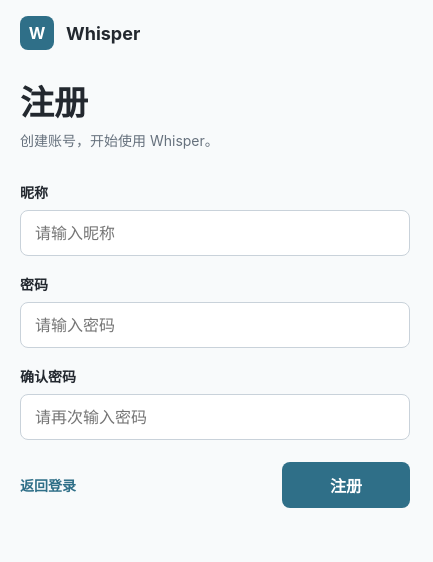
Test: RegisterPanel › blocks submission when passwords do not match
The width and height of the screenshot is (433, 562).
Step 1. Type "alice" into the field labelled "昵称" → (215, 233), box 20,210 -> 410,256
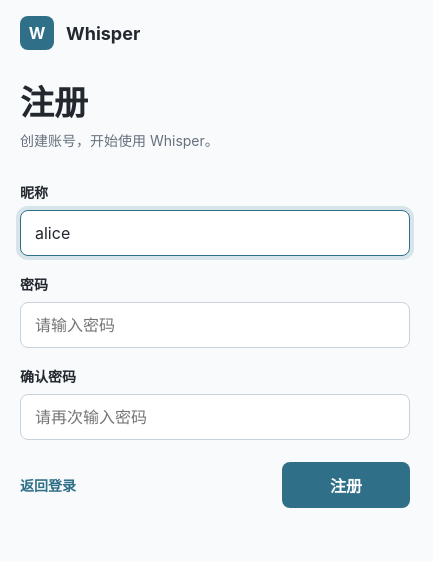
Step 2. Type "secret" into the password field labelled "密码" → (215, 325), box 20,302 -> 410,348
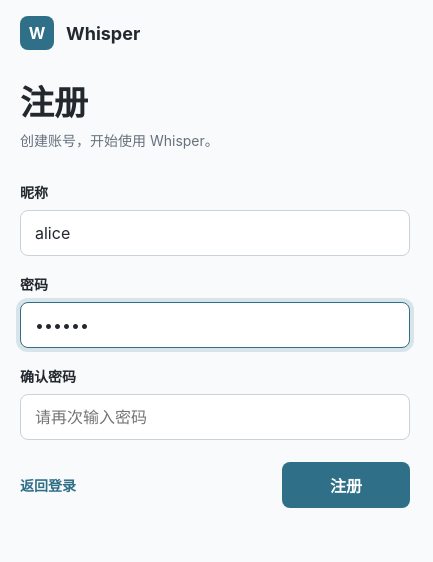
Step 3. Type "different" into the password field labelled "确认密码" → (215, 417), box 20,394 -> 410,440
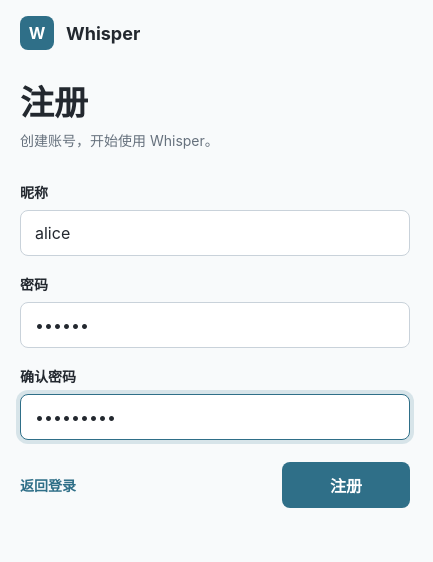
Step 4. Click the button "注册" → (346, 485), box 282,462 -> 410,508
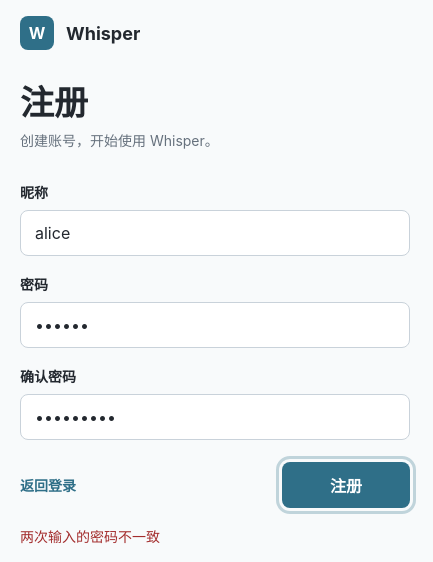
Expected: the text "两次输入的密码不一致" is shown, 20,528 -> 160,545
